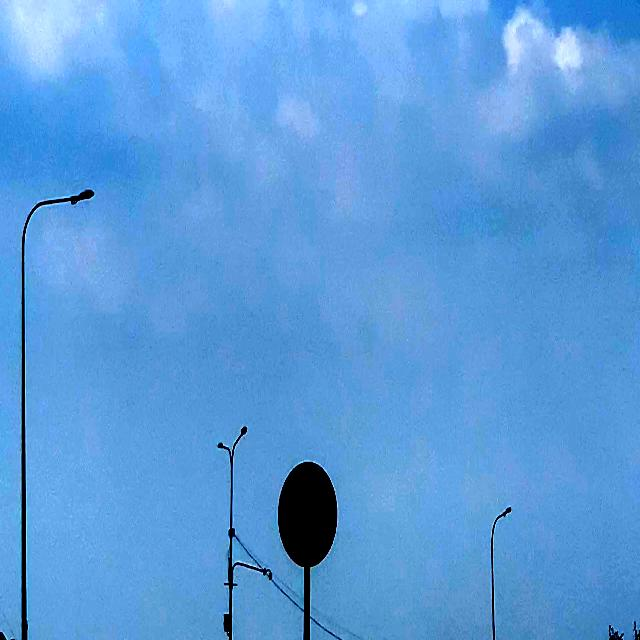P.124a: (278, 461, 338, 568)
